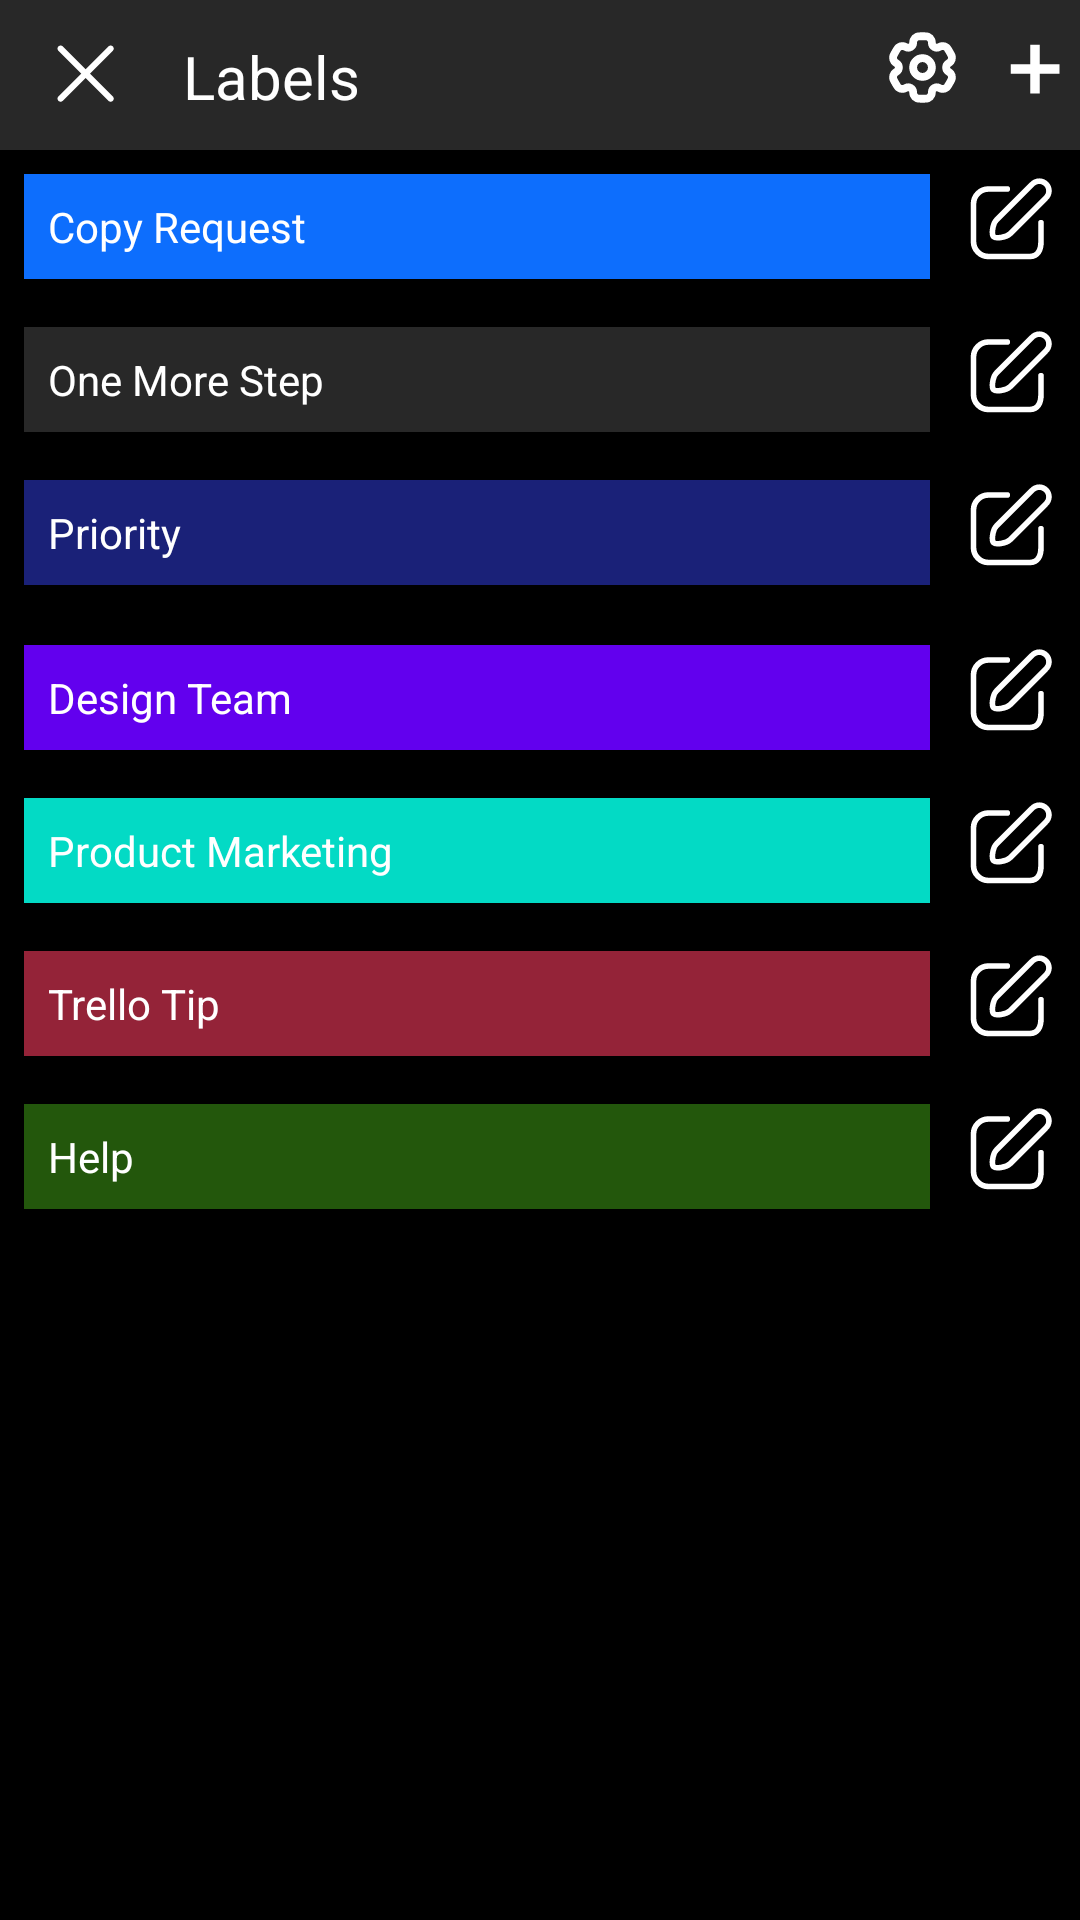

Icons on this 1080 × 1920 Android screen, each with its box as (x1, y1, x2, y2):
add: (1010, 44, 1060, 94)
close: (57, 45, 114, 102)
edit: (970, 178, 1052, 260), (970, 331, 1052, 413), (970, 484, 1052, 566), (970, 649, 1052, 731), (970, 802, 1052, 884), (970, 955, 1052, 1037), (970, 1108, 1052, 1190)
settings: (889, 32, 956, 103)
